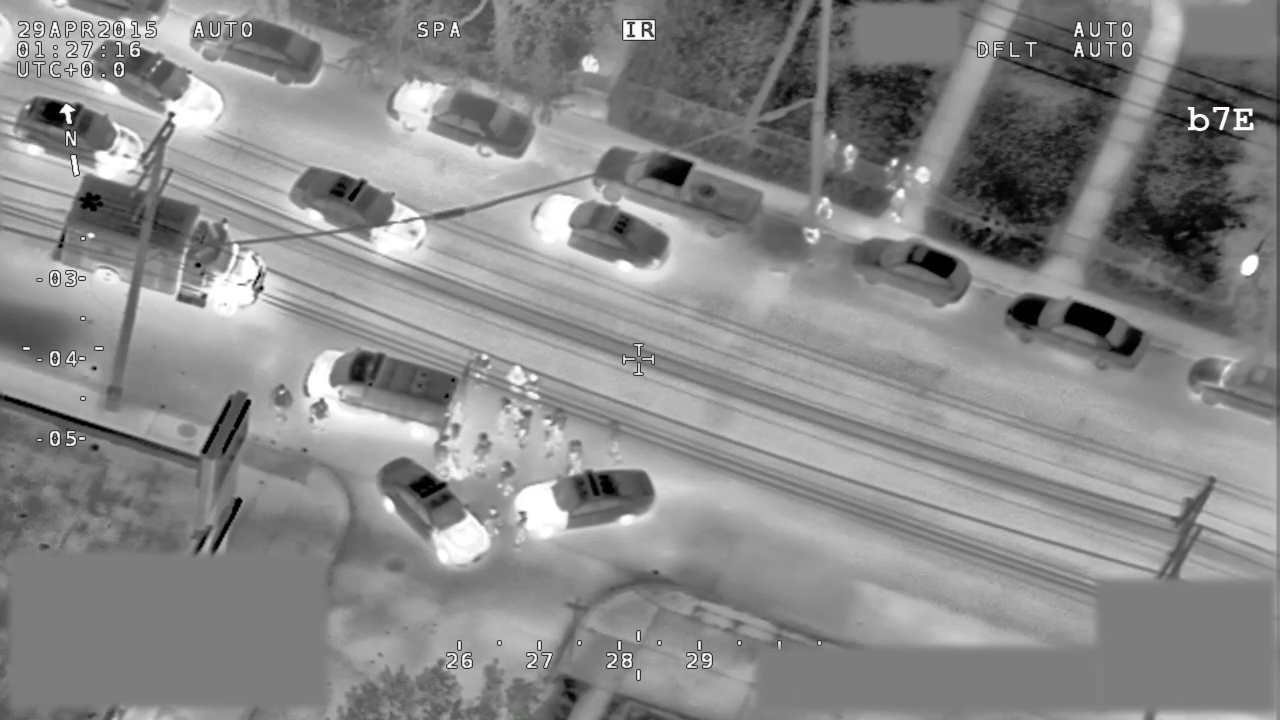vehicle: (43, 169, 265, 318), (593, 139, 771, 243), (304, 342, 467, 443), (383, 72, 542, 164), (284, 159, 428, 257), (999, 286, 1152, 377), (377, 452, 493, 572), (87, 38, 227, 136), (527, 189, 674, 280), (184, 10, 332, 95), (11, 94, 149, 180), (514, 466, 658, 541), (854, 228, 975, 314), (1182, 347, 1280, 425)
